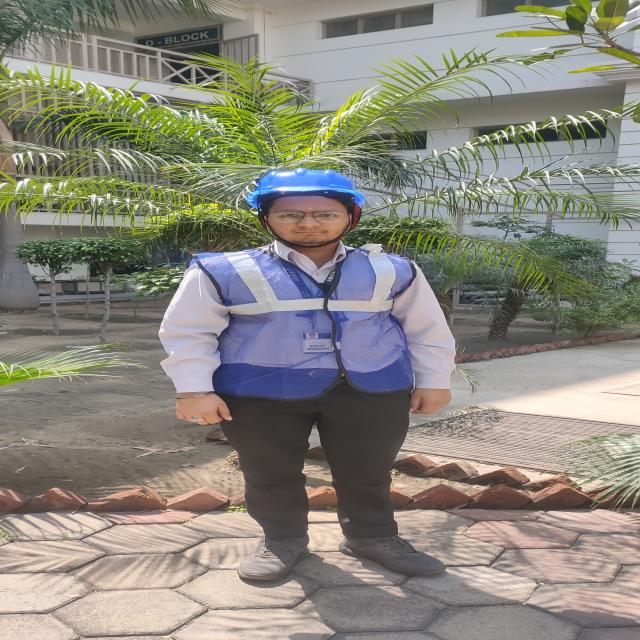safe: (176, 167, 454, 583)
